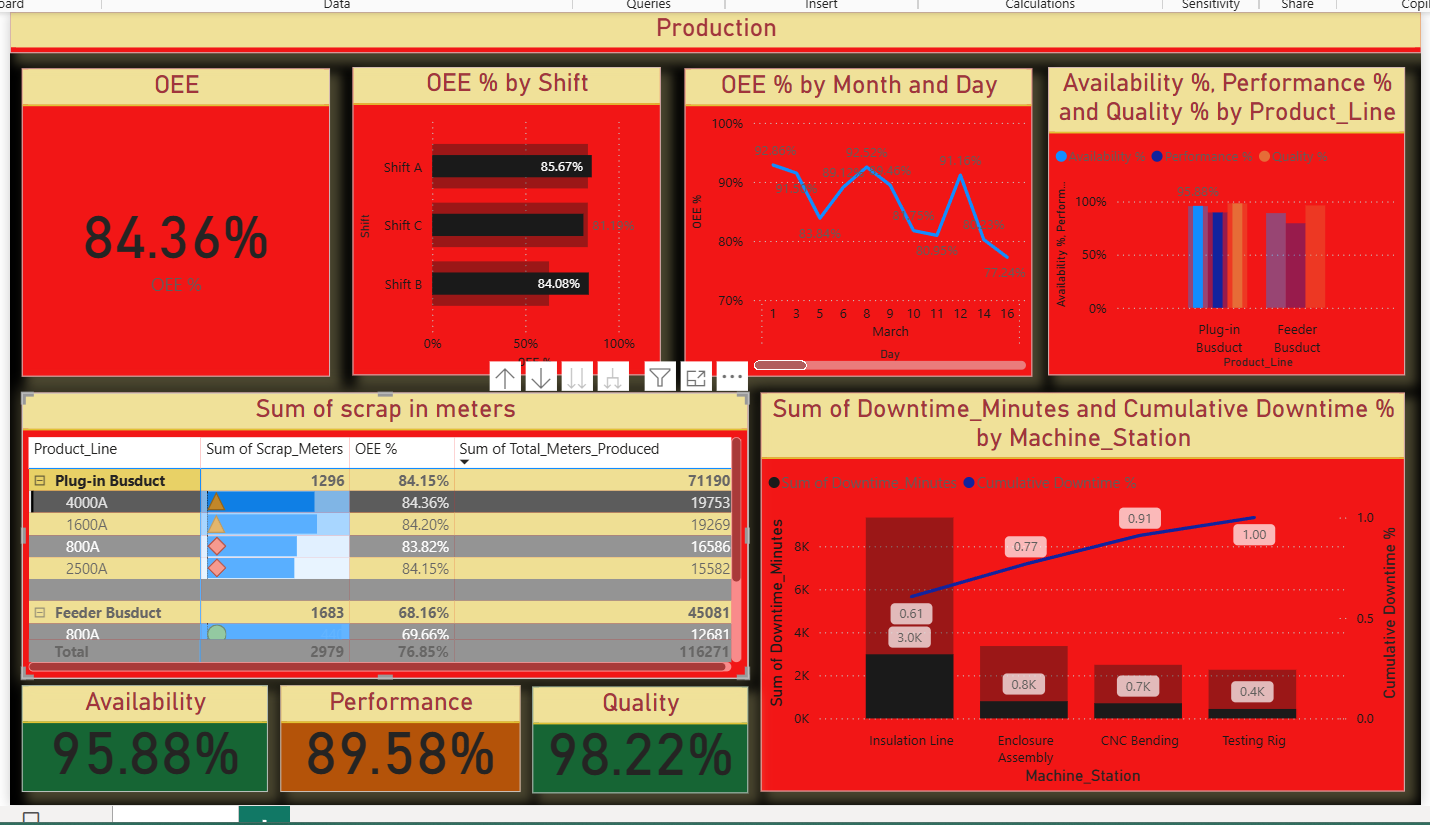

The page's visual inventory and layout, read from the dashboard file:
{"tool":"powerbi","page":{"name":"OEE Sheet","canvas":[1280,720],"ordinal":0},"visuals":[{"type":"card","title":"OEE","fields":{"Values":["Downtime_Details.OEE %"]},"box":[10.7,51.2,279.9,279.9],"z":0},{"type":"clusteredBarChart","fields":{"Y":["Downtime_Details.OEE %"],"Category":["Downtime_Details.Shift"]},"box":[310.8,50,279.9,279.9],"z":1000},{"type":"textbox","title":"Production ","box":[0,0,1280.7,37.2],"z":2000},{"type":"lineClusteredColumnComboChart","fields":{"Y":["Sum(Downtime_Details.Downtime_Minutes)"],"Category":["Downtime_Details.Machine_Station"],"Y2":["Downtime_Details.Cumulative Downtime %"]},"box":[681.1,345.6,584.4,362.2],"z":3000},{"type":"lineChart","fields":{"Y":["Downtime_Details.OEE %"],"Category":["Production_Log.Date.Variation.Date Hierarchy.Month","Production_Log.Date.Variation.Date Hierarchy.Day"]},"box":[612.1,51.2,315.6,279.9],"z":4000},{"type":"clusteredColumnChart","fields":{"Category":["Production_Log.Product_Line"],"Y":["Downtime_Details.Availability %","Downtime_Details.Performance %","Downtime_Details.Quality %"]},"box":[942,50,323.9,279.9],"z":5000},{"type":"pivotTable","title":"Sum of scrap in meters","fields":{"Rows":["Production_Log.Product_Line","Production_Log.Amperage_Rating"],"Values":["Sum(Production_Log.Scrap_Meters)","Downtime_Details.OEE %","Sum(Production_Log.Total_Meters_Produced)"]},"box":[11.1,345.6,658.9,260],"z":6000},{"type":"card","title":"Availability ","fields":{"Values":["Downtime_Details.Availability %"]},"box":[11.1,611.1,223.3,96.7],"z":7000},{"type":"card","title":"Performance ","fields":{"Values":["Downtime_Details.Performance %"]},"box":[245.6,611.1,217.8,96.7],"z":8000},{"type":"card","title":"Quality ","fields":{"Values":["Downtime_Details.Quality %","select"]},"box":[474.4,612.2,195.6,96.7],"z":9000}]}

Visuals, with their boxes in screenshot pixels (x1, y1, x2, y2):
"OEE" card: box=[16, 64, 324, 372]
clusteredBarChart - Downtime_Details.OEE % x Downtime_Details.Shift: box=[346, 63, 655, 371]
"Production " textbox: box=[4, 7, 1415, 48]
lineClusteredColumnComboChart - Sum(Downtime_Details.Downtime_Minutes) x Downtime_Details.Machine_Station: box=[754, 388, 1398, 787]
lineChart - Downtime_Details.OEE % x Production_Log.Date.Variation.Date Hierarchy.Month: box=[678, 64, 1026, 372]
clusteredColumnChart - Production_Log.Product_Line x Downtime_Details.Availability %: box=[1042, 63, 1398, 371]
"Sum of scrap in meters" pivotTable: box=[16, 388, 742, 675]
"Availability " card: box=[16, 681, 262, 787]
"Performance " card: box=[274, 681, 514, 787]
"Quality " card: box=[526, 682, 742, 788]
